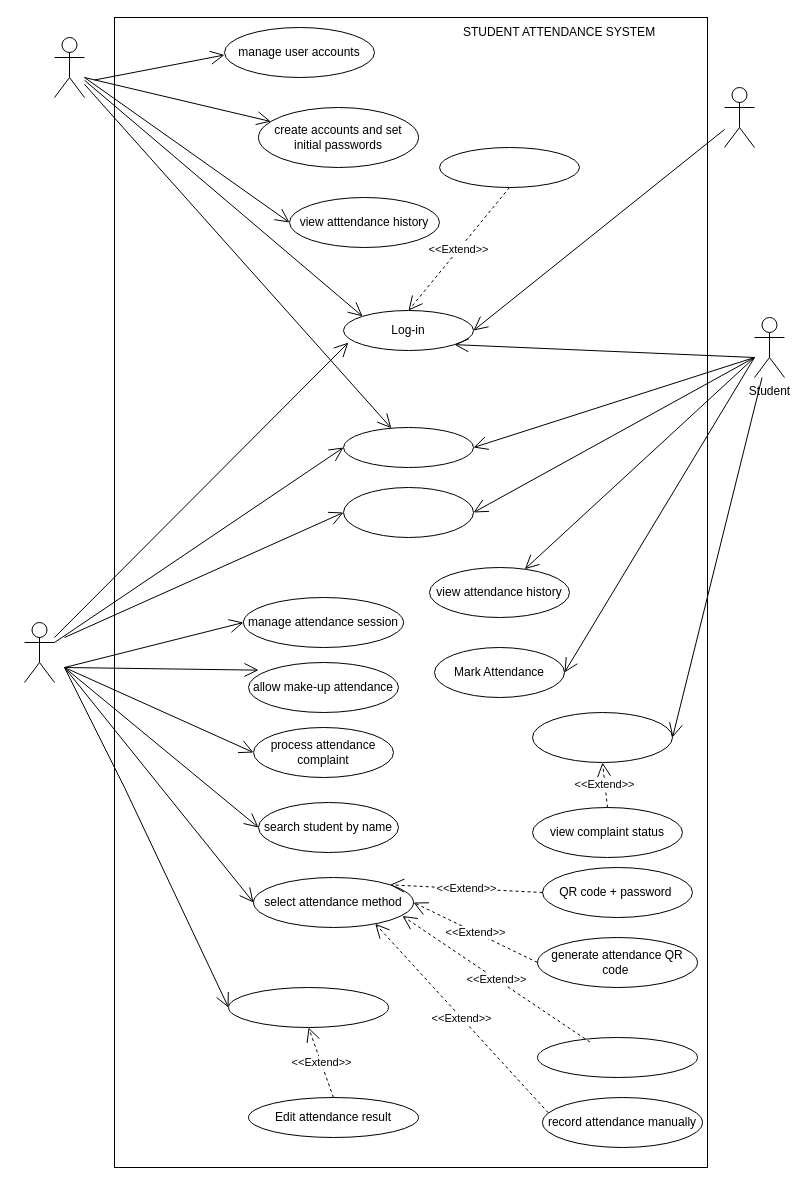
Some shapes in this 807 by 1185 pixel diagram are drawn without their labels. The box of each missing label's shape, as (x1, y1, x2, y2) in pixels:
Admin: (54, 36, 84, 98)
Change password: (342, 486, 474, 538)
Guest: (724, 86, 754, 148)
Lecturer: (24, 622, 54, 682)
Log-out: (342, 426, 474, 468)
Recover password: (438, 146, 580, 188)
set attendance password: (536, 1036, 698, 1078)
submit attendance complaint: (532, 712, 672, 762)
view attendance result: (228, 986, 388, 1028)
